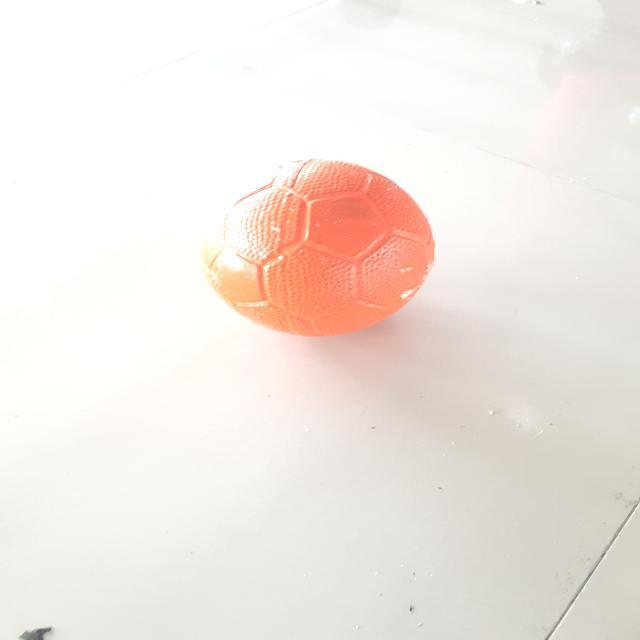bola: (189, 150, 443, 342)
